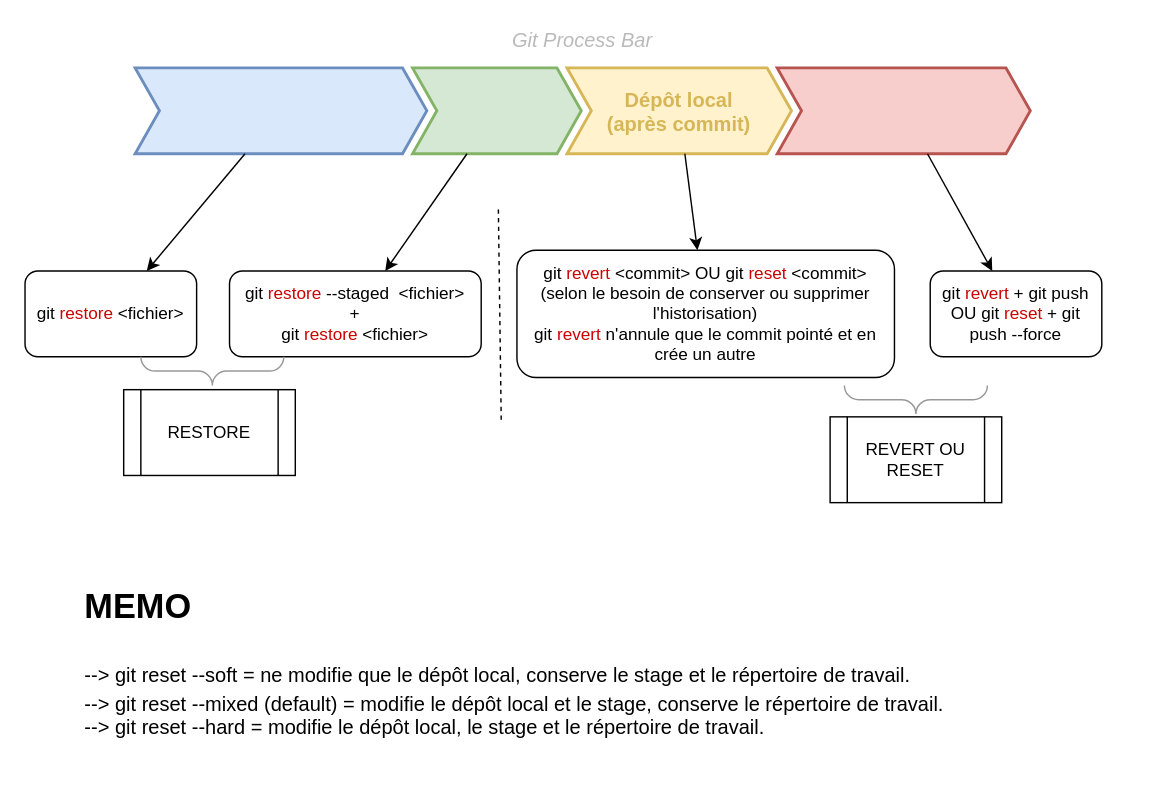
Image size: 1170x797. Some labels were removed from this diagram. Here are the shapes that lost their labels. From the top down, the centre of each, then its label:
At point 280,110: "Répertoire de travail".
At point 496,110: "Stage (après add)".
At point 903,110: "Dépôt distant (après push)".
